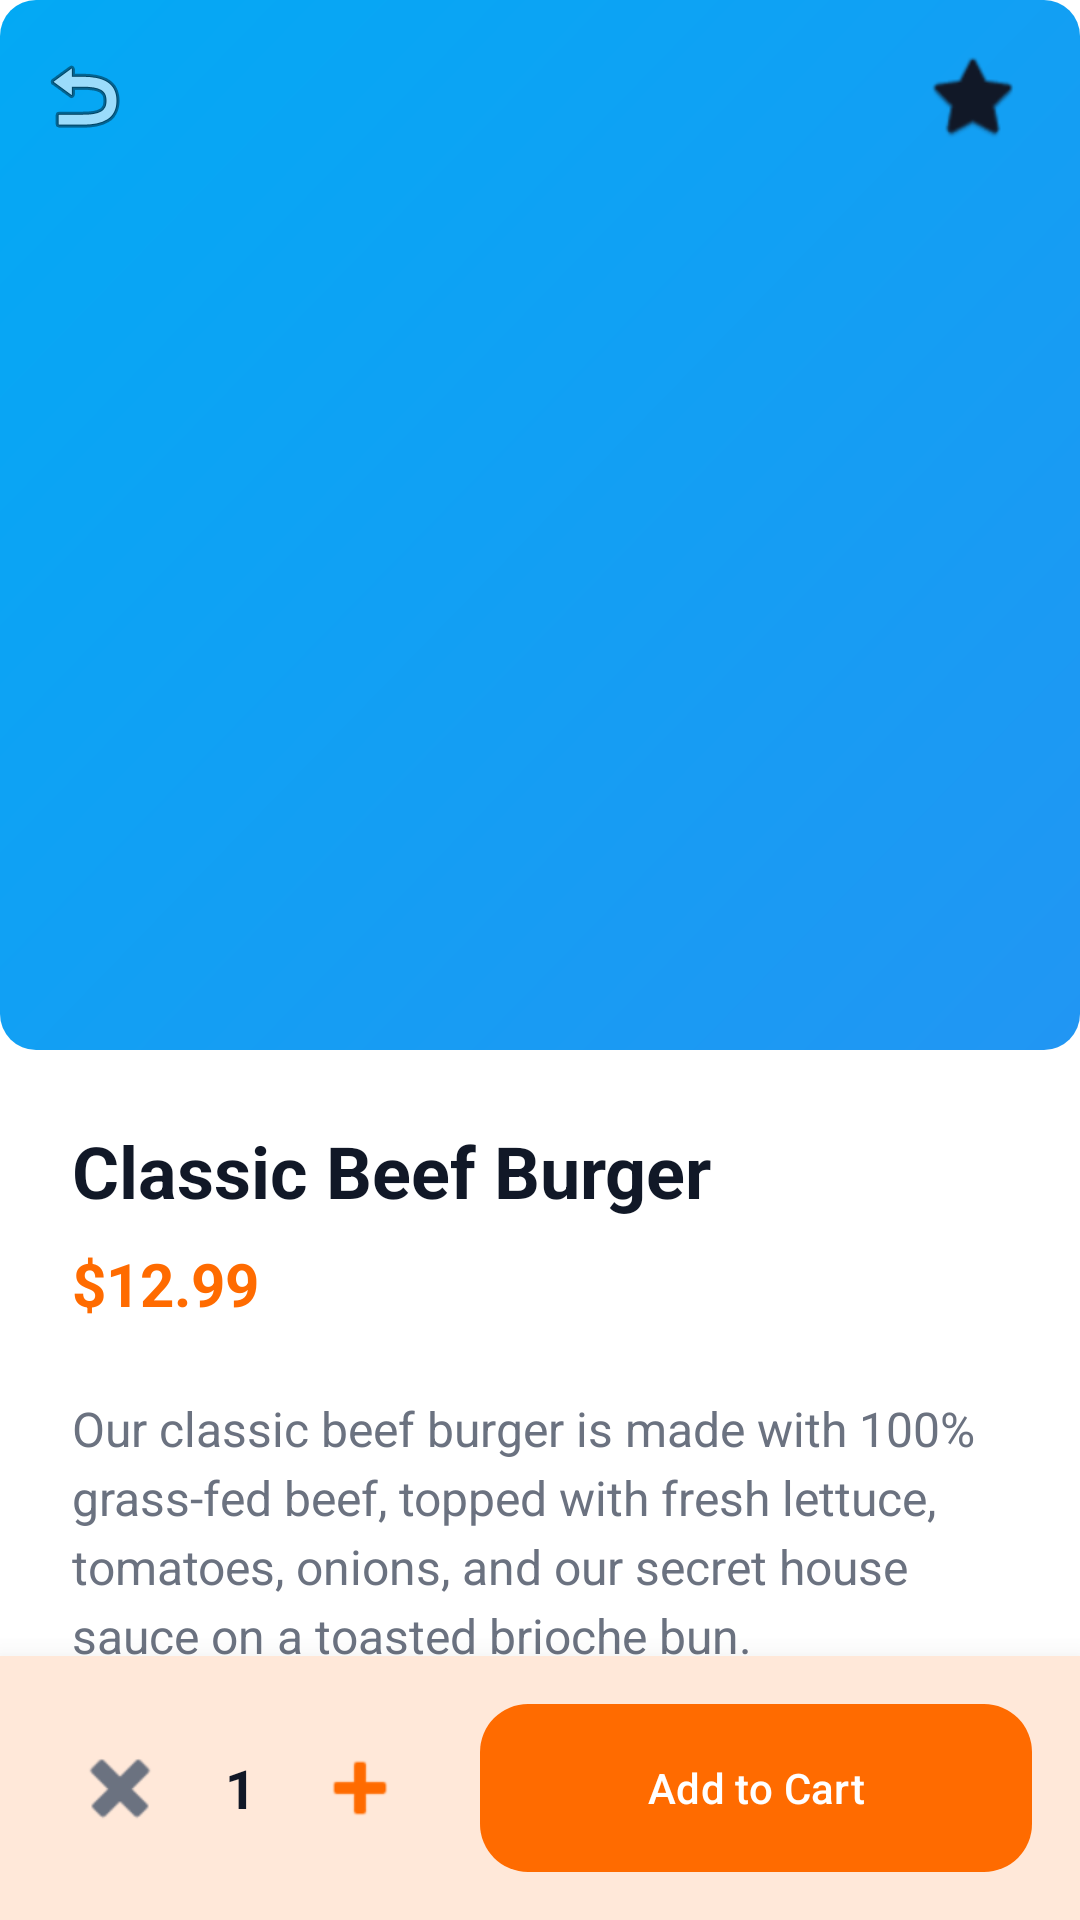

Locate icon controls on the screen. Image size 1080px x 1920px, boxes as (x1, y1, x2, y2).
delete: (90, 1759, 150, 1818)
